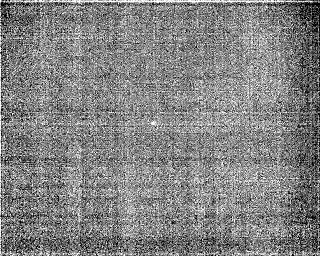AIRPLANE: (149, 118, 158, 129)
